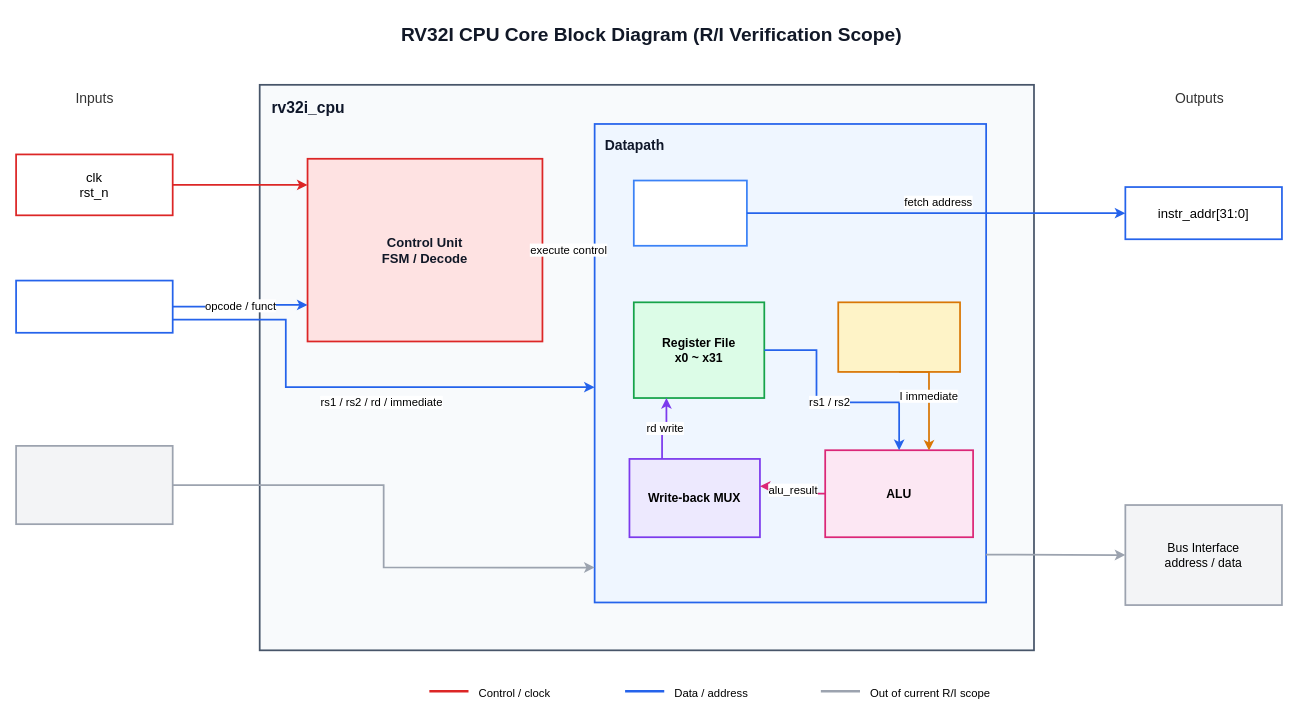
This 1297x717 diagram has some shape labels left out. The shapes that lost their labels are listed below. From the top down, each one's centre as x and y in pixels, then its label:
At (689,212): "PC".
At (94,306): "instr_code[31:0]".
At (898,336): "Immediate Extend".
At (94,485): "ready bus_rdata[31:0]".
